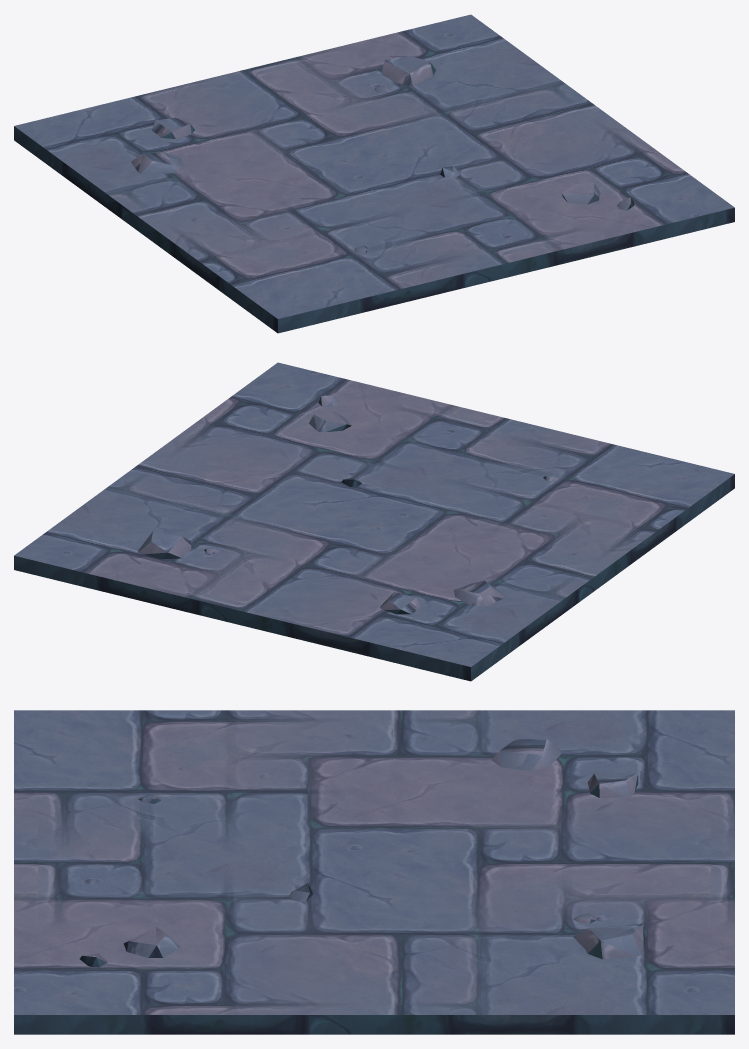
Rendered from floor_dirt_large.gltf.
3 views of the same model, one above another, from view 1: azimuth 30°, elevation 25°; view 2: azimuth 150°, elevation 25°; view 3: azimuth 270°, elevation 25° (orthographic). The views are drawn at different scales.
Visible parts, largest first — view 1: floor_dirt_large; view 2: floor_dirt_large; view 3: floor_dirt_large.
Part boxes in pixels (bbox=[...]): floor_dirt_large: bbox=[14, 14, 734, 333]; floor_dirt_large: bbox=[14, 362, 734, 681]; floor_dirt_large: bbox=[14, 710, 734, 1034].
Bounding box in the file's own units: 4 × 0.2086 × 4.
2 materials, 2 textured.
